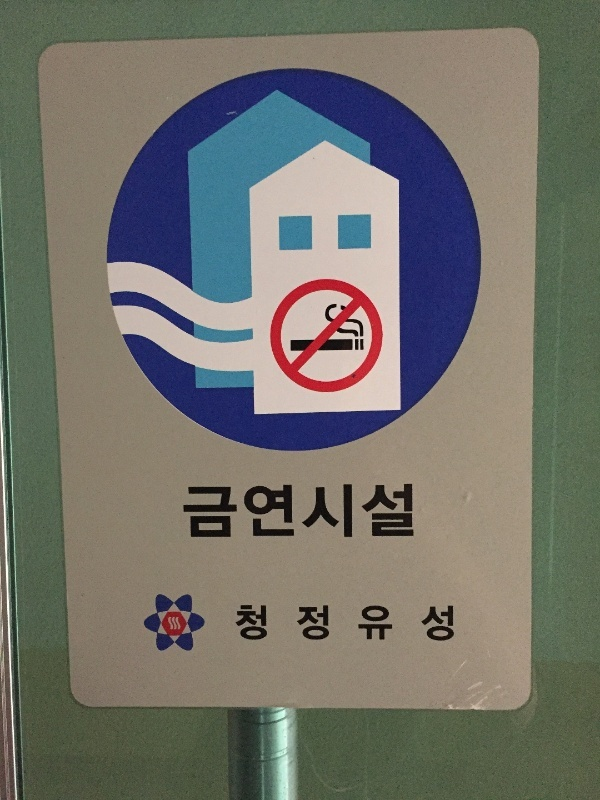text: (193, 481, 208, 542), (209, 481, 224, 542), (225, 481, 240, 542), (241, 481, 256, 542), (257, 481, 272, 542), (273, 481, 288, 542), (289, 481, 304, 542), (305, 481, 320, 542), (321, 481, 336, 542), (337, 481, 352, 542), (353, 481, 368, 542), (369, 481, 384, 542), (385, 481, 400, 542), (401, 481, 415, 542), (241, 603, 256, 644), (257, 603, 272, 644), (273, 603, 288, 644), (289, 603, 304, 644), (305, 603, 320, 644), (321, 603, 336, 644), (337, 603, 352, 644), (353, 603, 368, 644), (369, 603, 384, 644), (385, 603, 400, 644), (401, 603, 416, 644), (417, 603, 432, 644), (433, 603, 448, 644), (183, 481, 192, 542), (449, 603, 455, 644), (235, 603, 240, 644)
